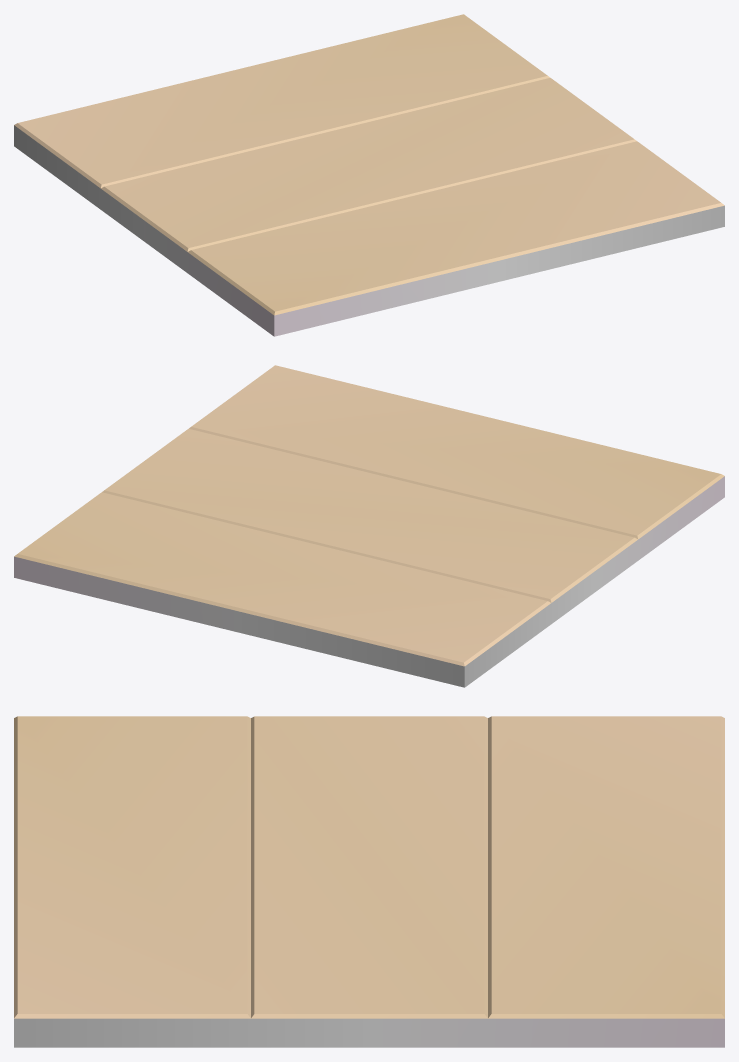
File: C_floor_piece_Big.fbx
3 views of the same model, one above another, from view 1: azimuth 30°, elevation 25°; view 2: azimuth 150°, elevation 25°; view 3: azimuth 270°, elevation 25° (orthographic). The views are drawn at different scales.
Visible parts, largest first — view 1: C_floor_piece_Big; view 2: C_floor_piece_Big; view 3: C_floor_piece_Big.
Part boxes in pixels (bbox=[...]): C_floor_piece_Big: bbox=[14, 14, 724, 336]; C_floor_piece_Big: bbox=[14, 365, 724, 687]; C_floor_piece_Big: bbox=[14, 716, 724, 1047].
Bounding box in the file's own units: 400 × 20 × 400.
